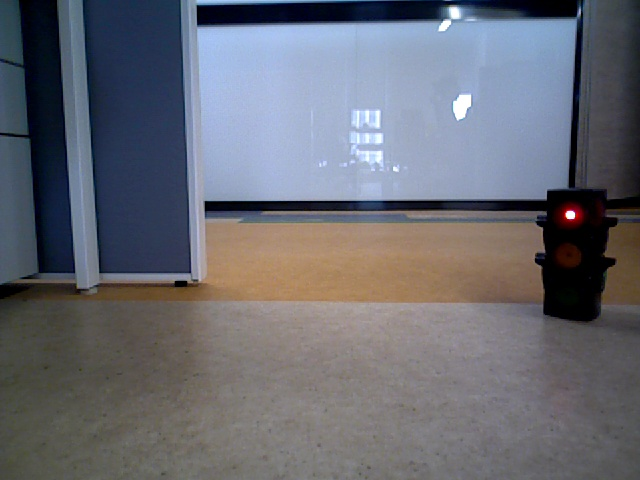red: (545, 190, 596, 317)
